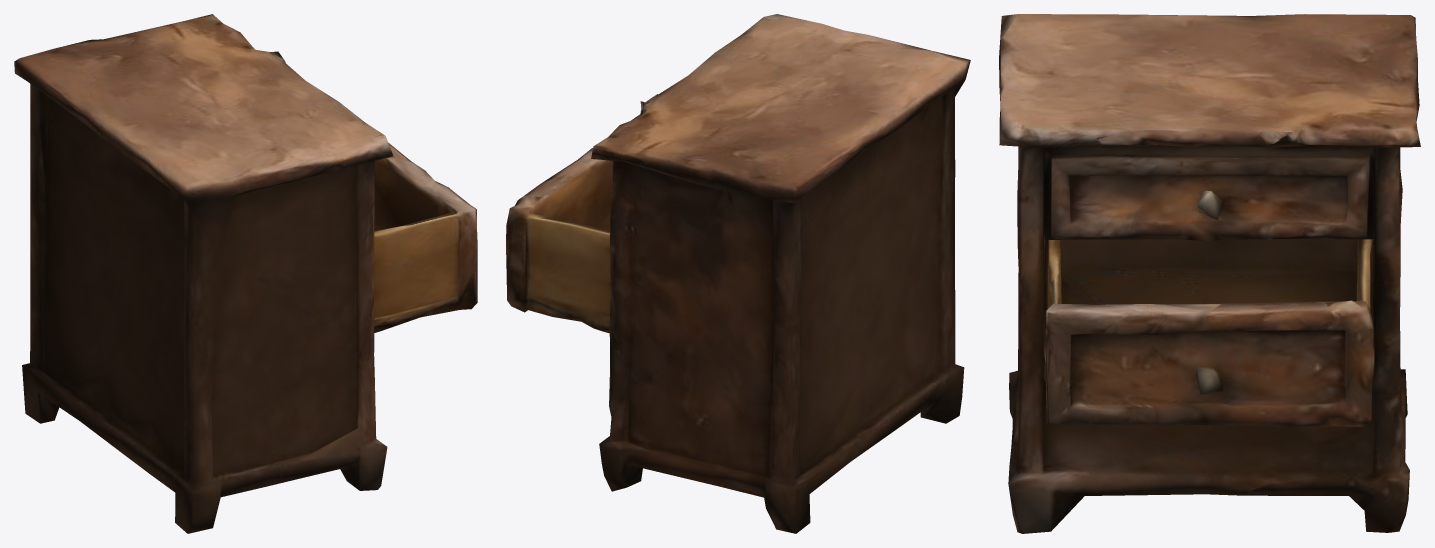
Rendered from e_drawers.glb.
3 renders of one model, left to right at view 1: azimuth 30°, elevation 25°; view 2: azimuth 150°, elevation 25°; view 3: azimuth 270°, elevation 25°, orthographic. The views are drawn at different scales.
Visible parts, largest first — view 1: tripo_node_5e2843d6-8596-4e0b-8127-b11399e89deb; view 2: tripo_node_5e2843d6-8596-4e0b-8127-b11399e89deb; view 3: tripo_node_5e2843d6-8596-4e0b-8127-b11399e89deb.
Part boxes in pixels (<box>): tripo_node_5e2843d6-8596-4e0b-8127-b11399e89deb: <box>14,14,477,533</box>; tripo_node_5e2843d6-8596-4e0b-8127-b11399e89deb: <box>506,14,970,533</box>; tripo_node_5e2843d6-8596-4e0b-8127-b11399e89deb: <box>999,14,1420,533</box>.
Bounding box in the file's own units: 0.9378 × 1 × 0.9265.
Materials: 1 (1 with a texture image).
